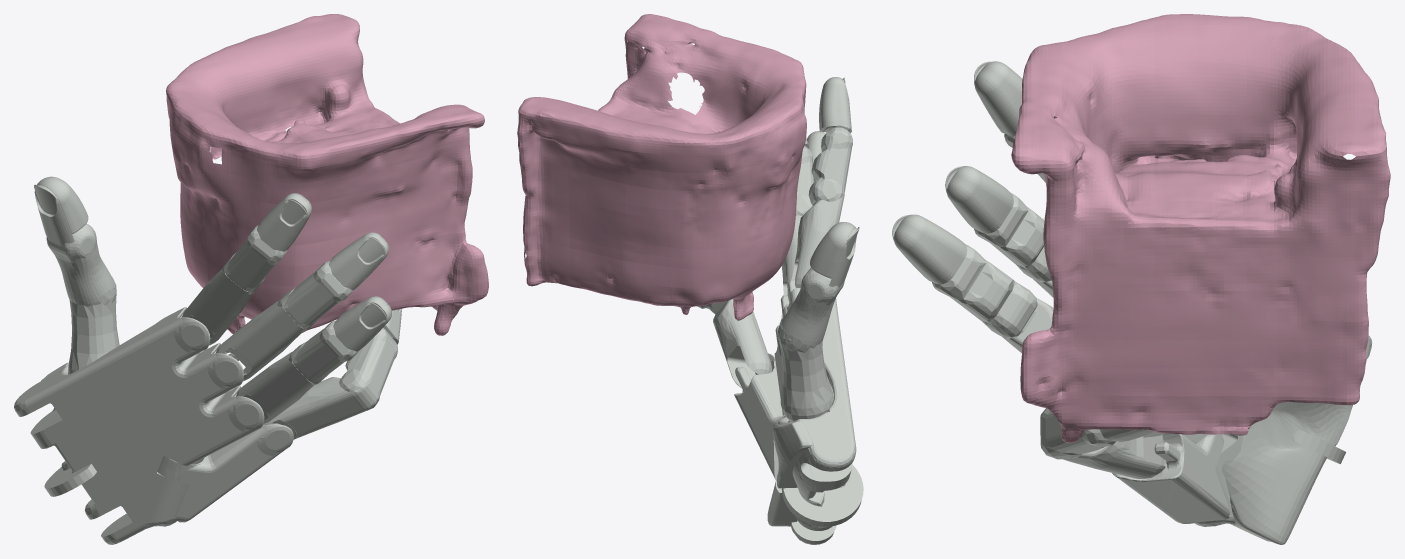
The picture shows the model from 3 angles, left to right: view 1: azimuth 30°, elevation 25°; view 2: azimuth 150°, elevation 25°; view 3: azimuth 270°, elevation 25°; orthographic projection. The views are drawn at different scales.
Visible parts, largest first — view 1: hand, world; view 2: world, hand; view 3: world, hand.
Part boxes in pixels (x1,y1,x2,y2): hand: [14, 176, 401, 544]; world: [166, 14, 488, 335]; world: [517, 14, 806, 320]; hand: [697, 77, 863, 544]; world: [1011, 14, 1390, 443]; hand: [892, 61, 1372, 544].
Size of the model in its own units: 0.1837 by 0.215 by 0.1711.
